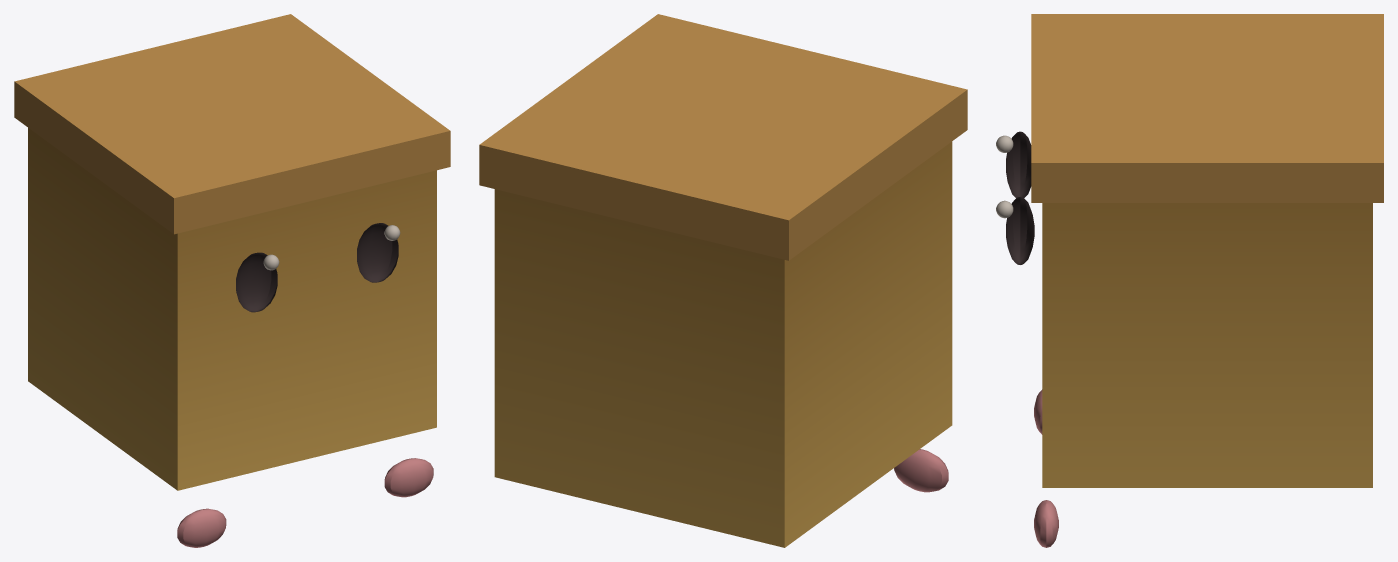
3 views of the same model, side by side, from view 1: azimuth 30°, elevation 25°; view 2: azimuth 150°, elevation 25°; view 3: azimuth 270°, elevation 25° (orthographic). The views are drawn at different scales.
Parts seen in each view (by area): view 1: pet_pe183de4d; view 2: pet_pe183de4d; view 3: pet_pe183de4d.
Part boxes in pixels (bbox=[...]): pet_pe183de4d: bbox=[14, 14, 450, 547]; pet_pe183de4d: bbox=[479, 14, 967, 547]; pet_pe183de4d: bbox=[996, 14, 1383, 547].
Bounding box in the file's own units: 0.32 × 0.4002 × 0.3519.
